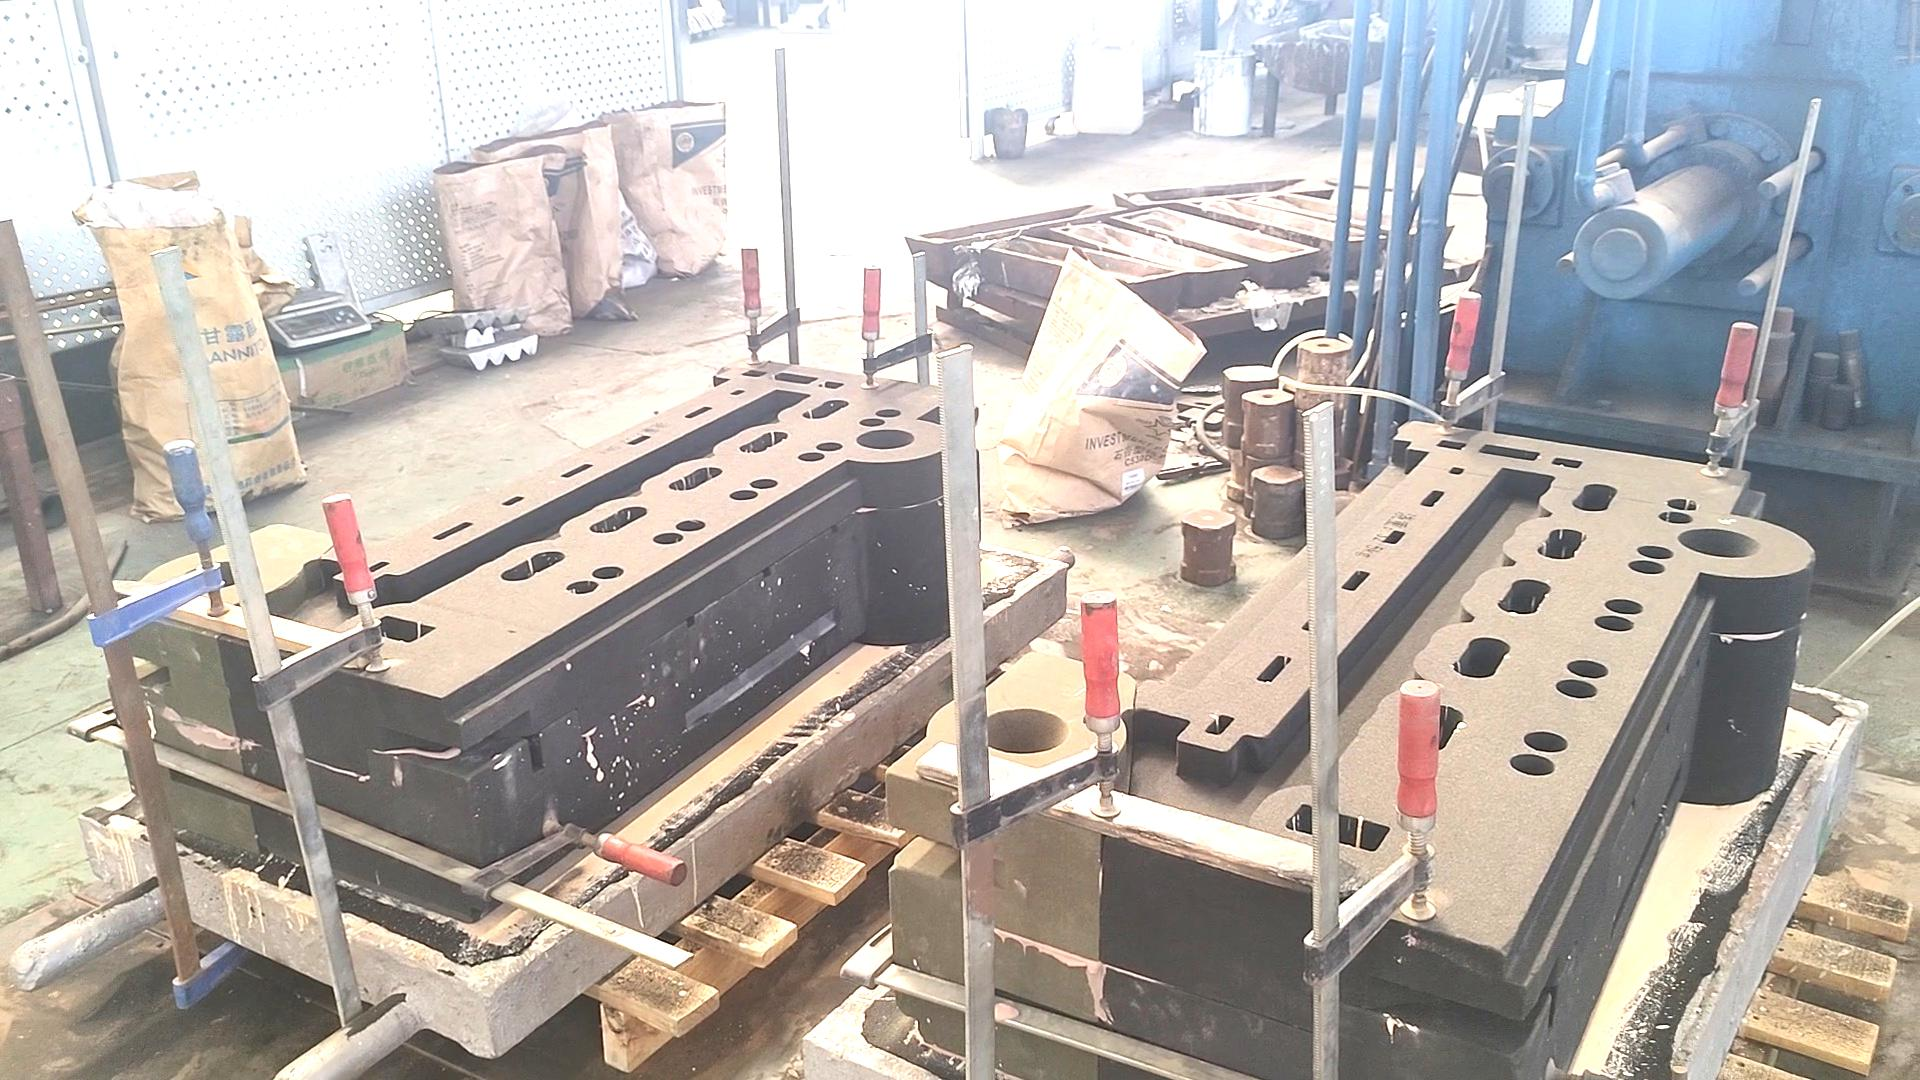pouring hole: (977, 709, 1069, 753), (1677, 527, 1762, 559), (182, 559, 255, 589), (856, 429, 913, 450)
